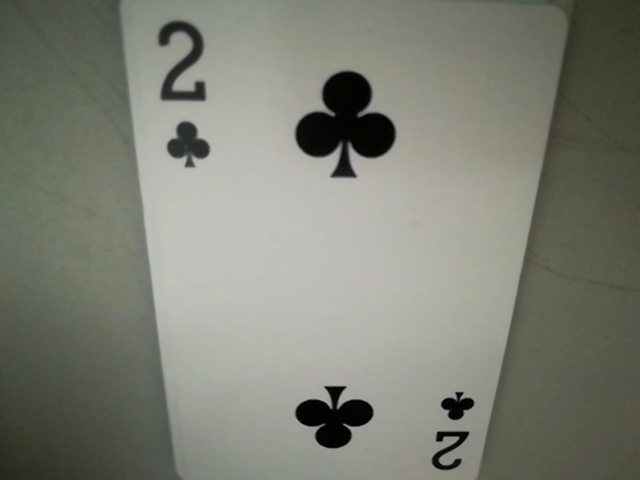mh 2: (138, 10, 217, 161), (420, 387, 483, 480)
